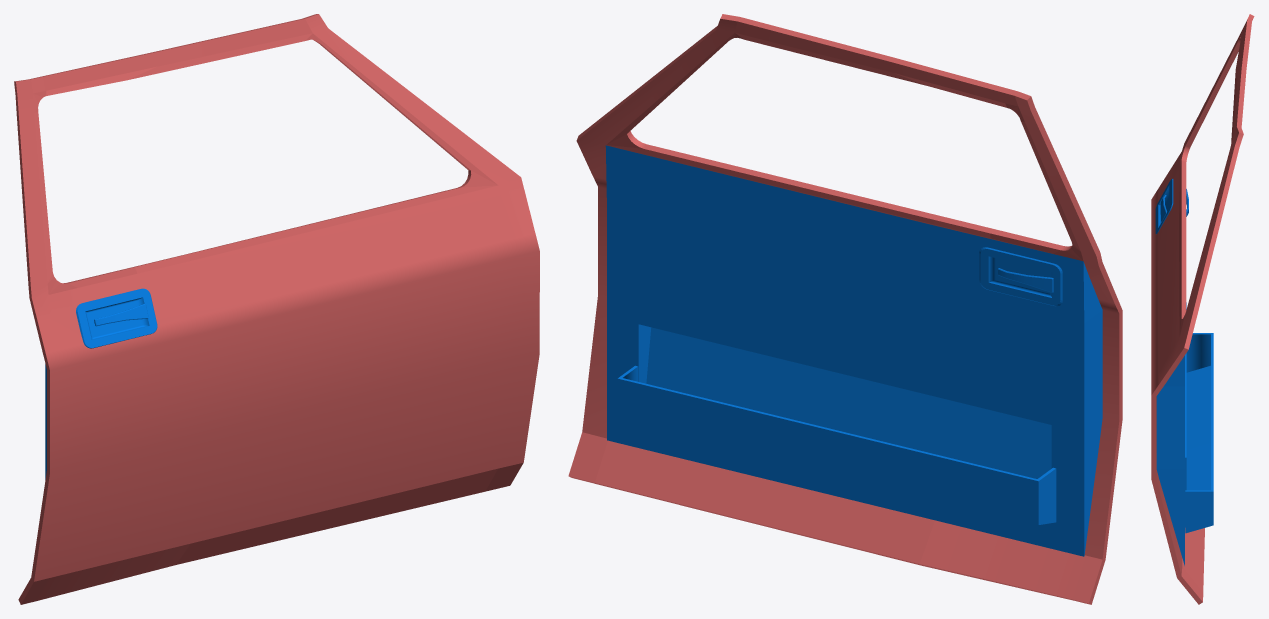
The model's file is PickUp_Door_02.fbx.
The picture shows the model from 3 angles, left to right: view 1: azimuth 30°, elevation 25°; view 2: azimuth 150°, elevation 25°; view 3: azimuth 270°, elevation 25°; orthographic projection. The views are drawn at different scales.
Visible parts, largest first — view 1: PickUp_Door_02; view 2: PickUp_Door_02; view 3: PickUp_Door_02.
Boxes of the visible parts, x1,y1,x2,y2 form: PickUp_Door_02: (14,14,539,604); PickUp_Door_02: (568,14,1122,604); PickUp_Door_02: (1151,14,1254,604).
Size of the model in its own units: 128 by 123 by 28.41.
